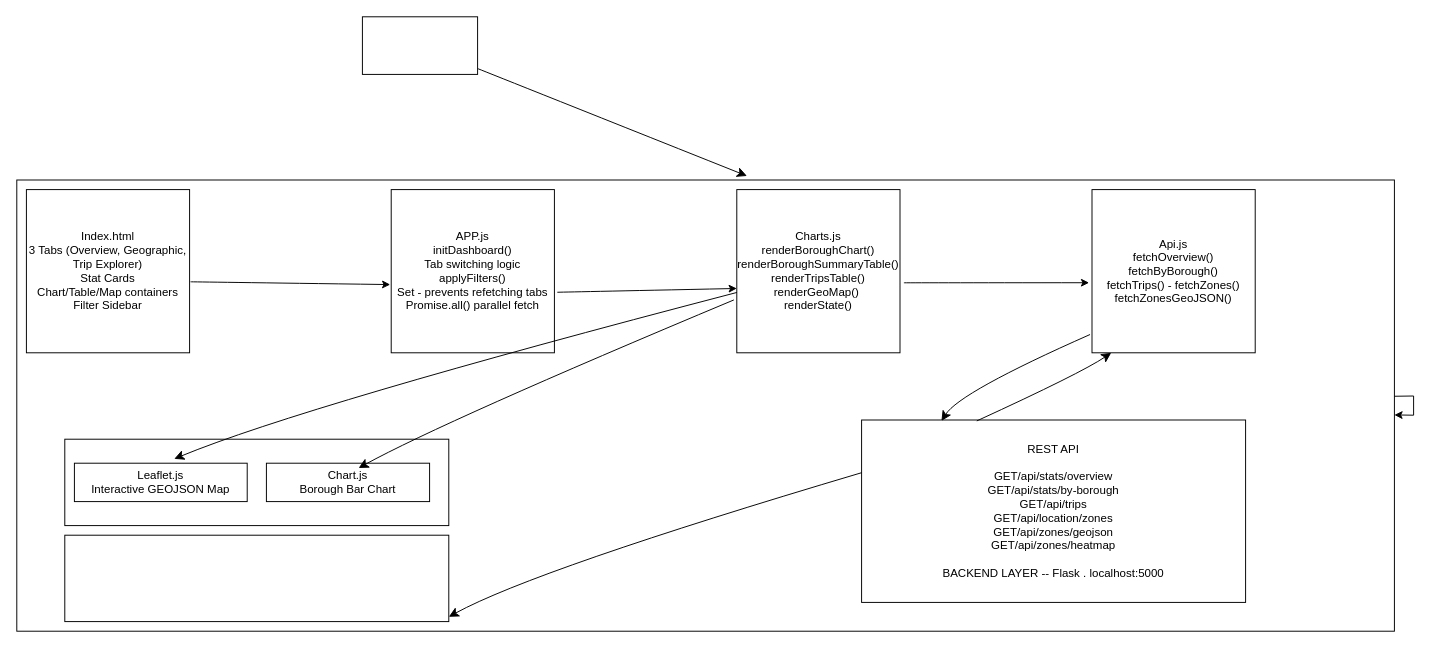
This 1438x648 diagram has some shape labels left out. Here are the shapes that lost their labels. From the top down, the centre of each, then its label:
the point at 419,45: USER Browser
the point at 256,578: DATABASE NYC TLC Yellow Taxi Records : ~2.5M + trips
